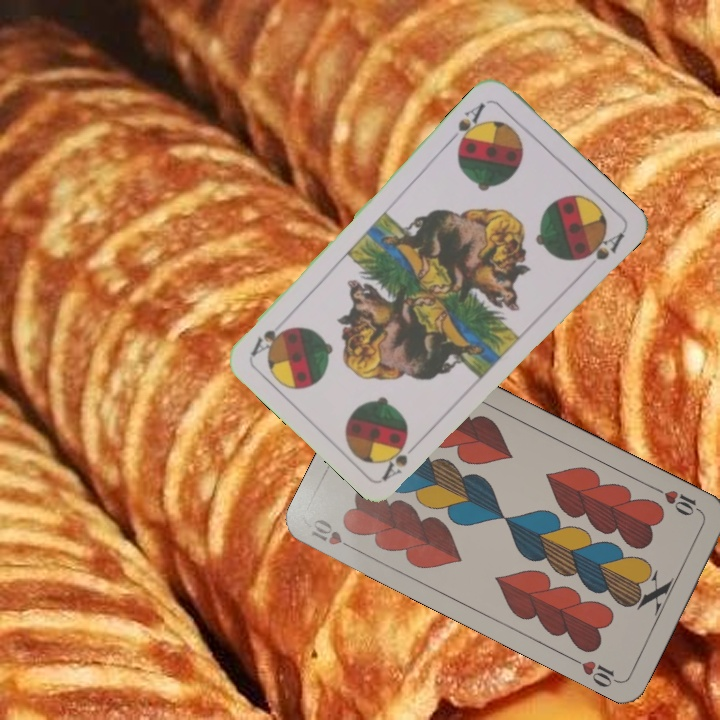H10: (307, 514, 361, 555), (650, 483, 705, 519)
SA: (445, 98, 488, 151), (378, 439, 410, 483)
